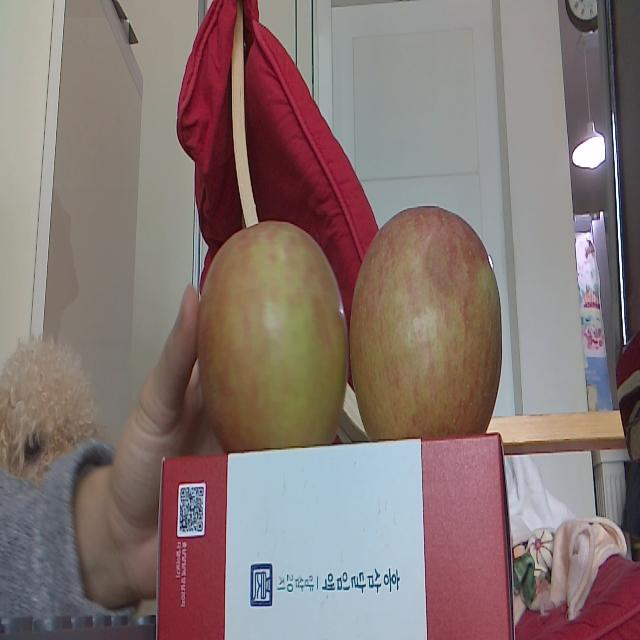apple: (349, 205, 503, 444), (197, 218, 349, 449)
